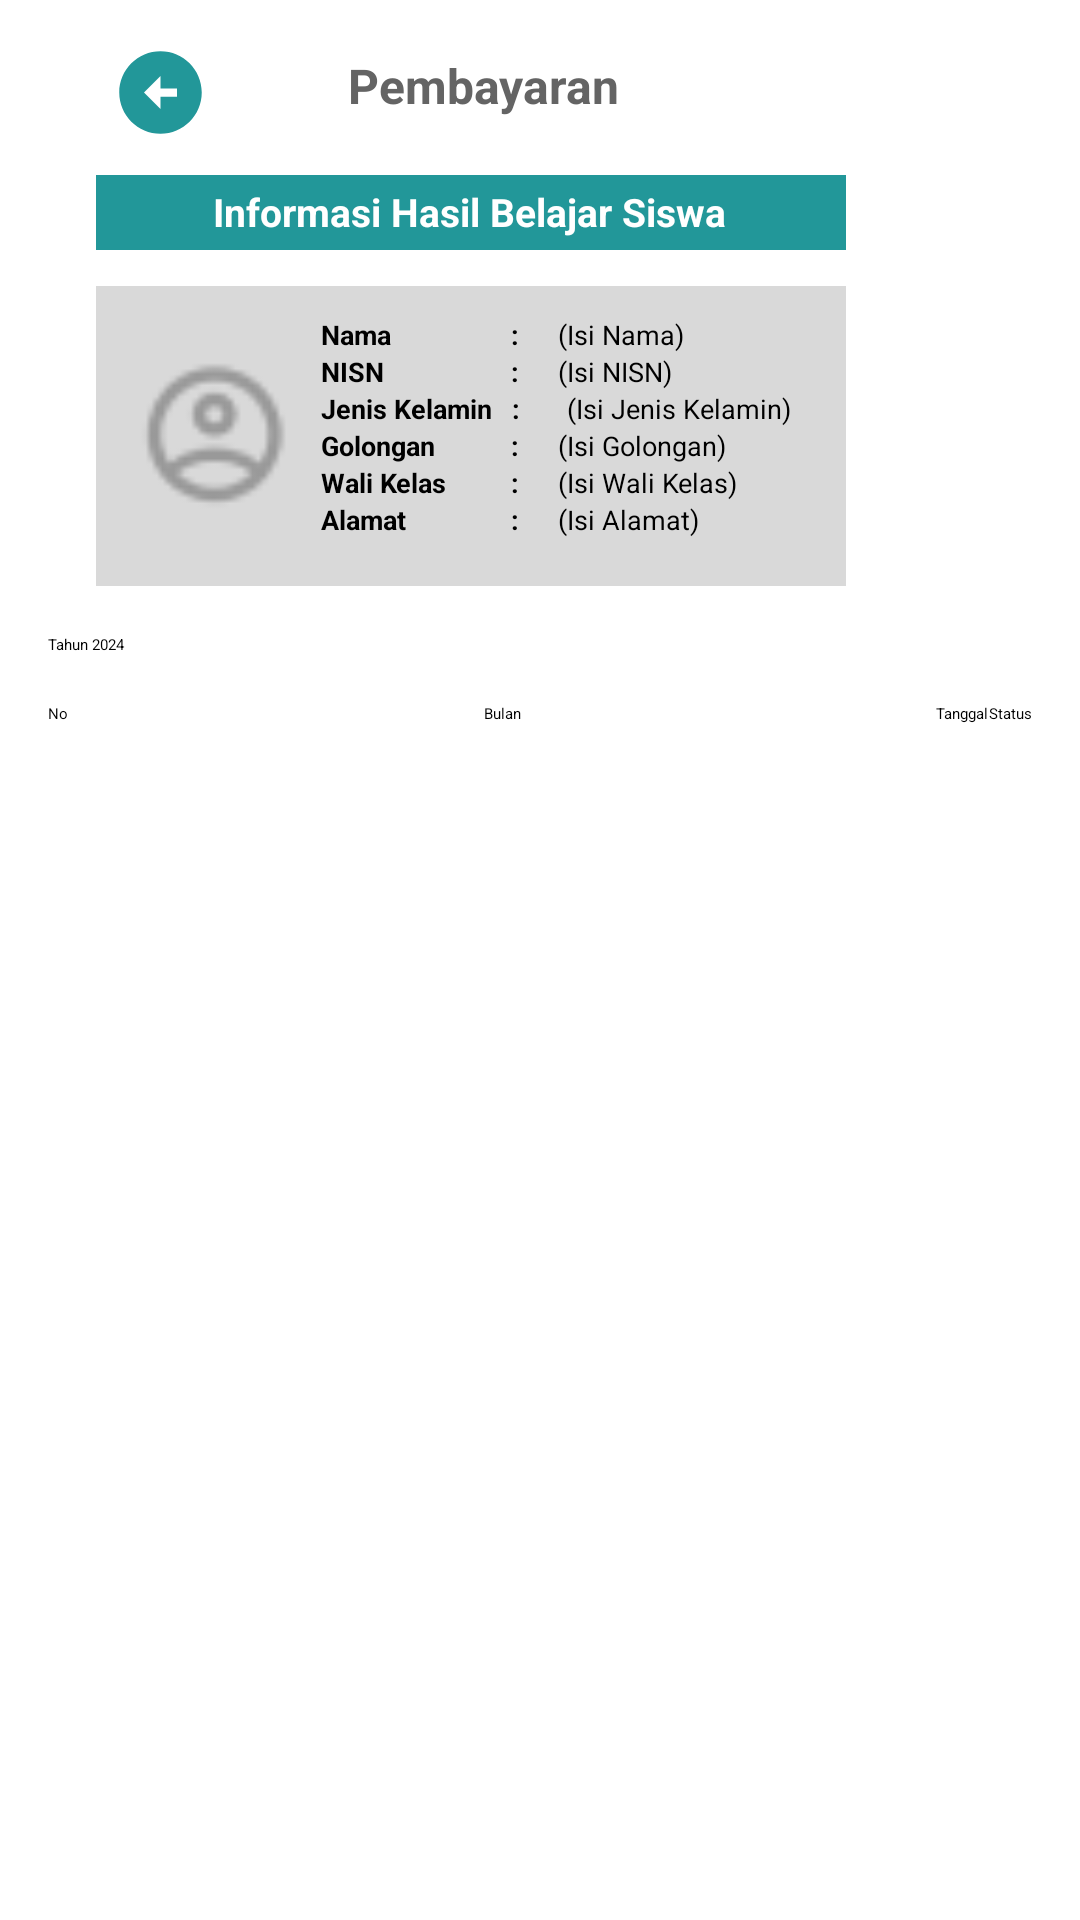

Screen size 1080px×1920px. Icon name, then its box in pixels as BBox(x1, y1, x2, y2):
kembali: BBox(119, 51, 202, 134)
